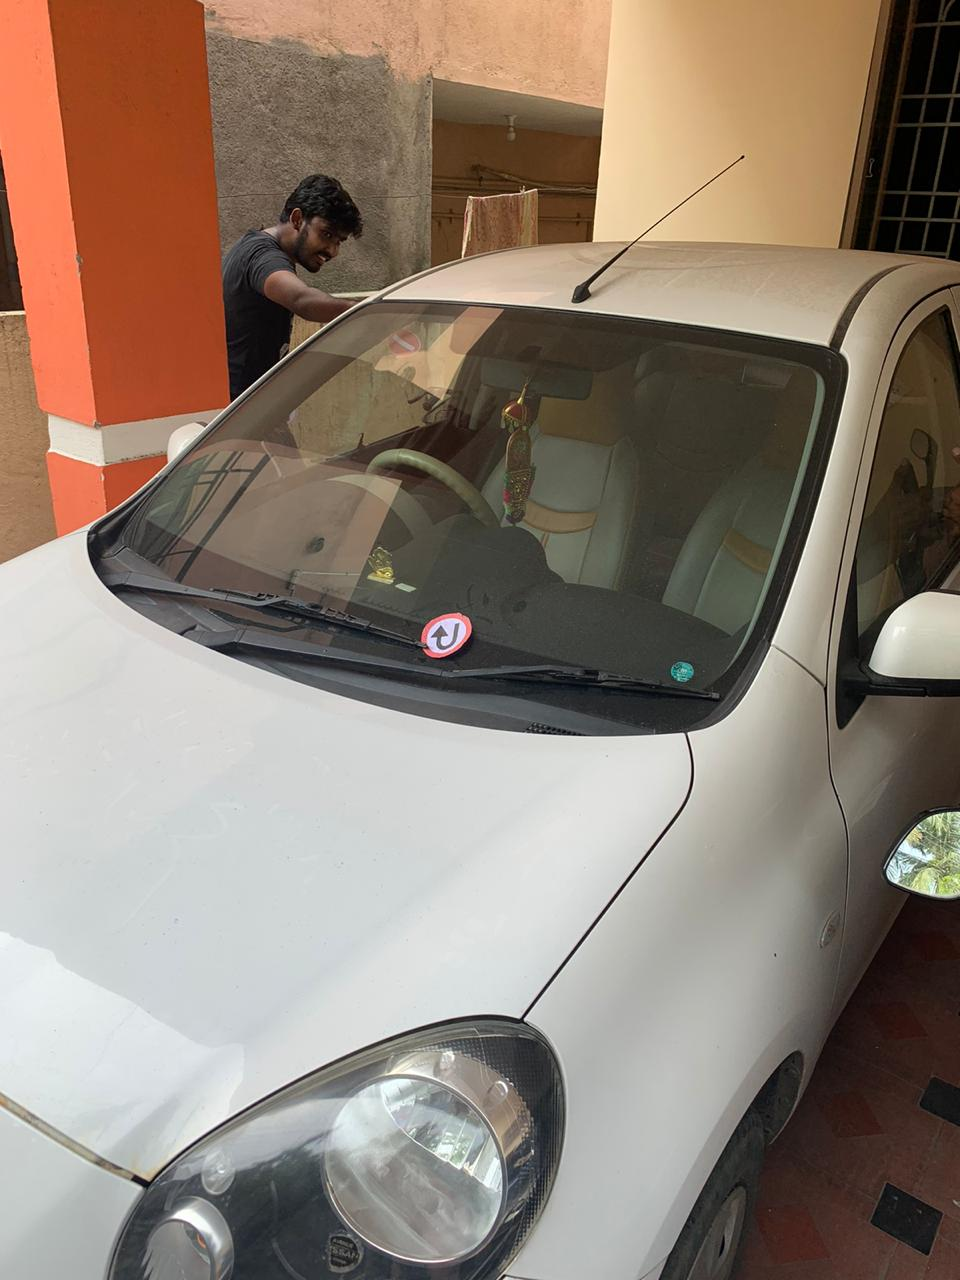U-TURN: (411, 598, 506, 663)
